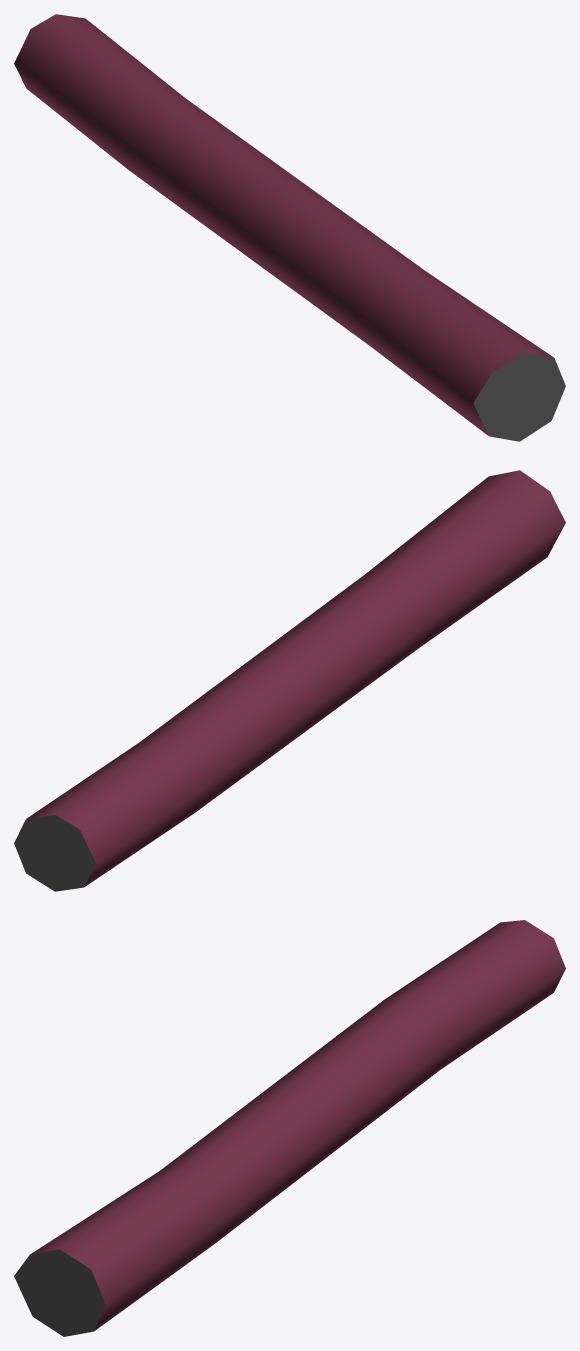
The model's file is mw_pine_log.FBX.
3 views of the same model, one above another, from view 1: azimuth 30°, elevation 25°; view 2: azimuth 150°, elevation 25°; view 3: azimuth 330°, elevation 25° (orthographic). The views are drawn at different scales.
Parts seen in each view (by area): view 1: mw_pine_log; view 2: mw_pine_log; view 3: mw_pine_log.
Part boxes in pixels (left/top/right/bottom): mw_pine_log: left=14, top=14, right=565, bottom=441; mw_pine_log: left=14, top=470, right=565, bottom=891; mw_pine_log: left=14, top=920, right=565, bottom=1336.
Bounding box in the file's own units: 94.97 × 89.33 × 823.
